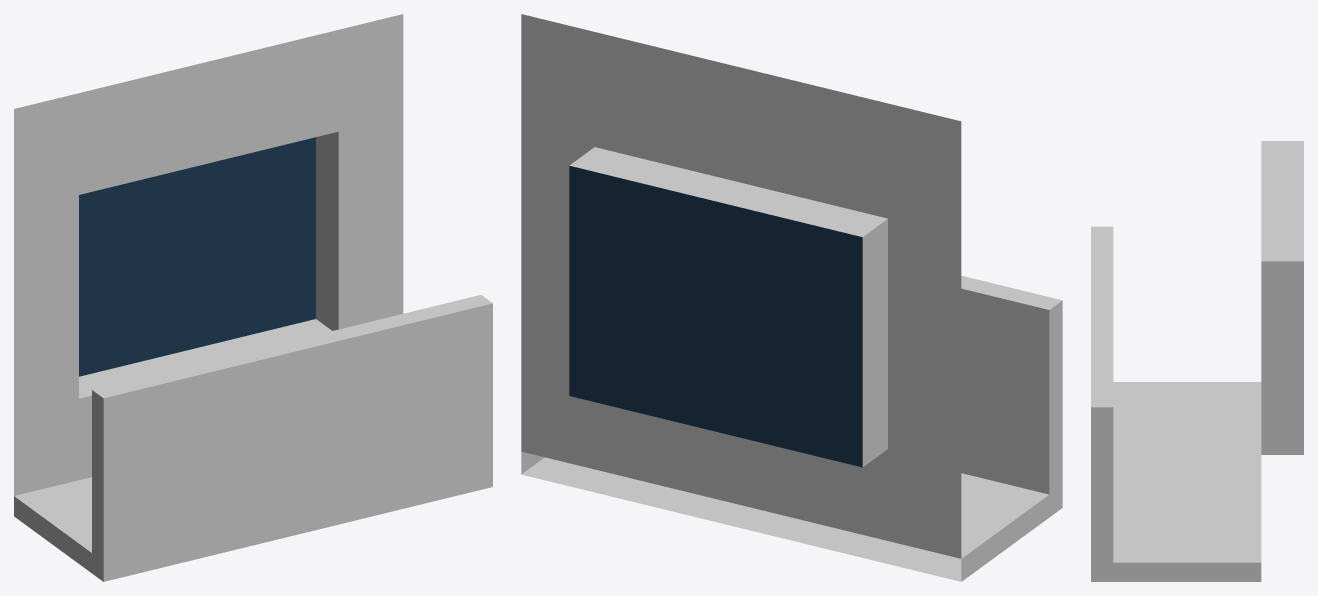
The model's file is mid-w2.fbx.
3 views of the same model, side by side, from view 1: azimuth 30°, elevation 25°; view 2: azimuth 150°, elevation 25°; view 3: azimuth 270°, elevation 25° (orthographic). The views are drawn at different scales.
Visible parts, largest first — view 1: M_Wall.002; view 2: M_Wall.002; view 3: M_Wall.002.
Part boxes in pixels (box(x1,y1,x2,y2)): M_Wall.002: box(14, 14, 492, 581); M_Wall.002: box(521, 14, 1062, 581); M_Wall.002: box(1091, 141, 1303, 581).
Bounding box in the file's own units: 1 × 1 × 0.4983.
